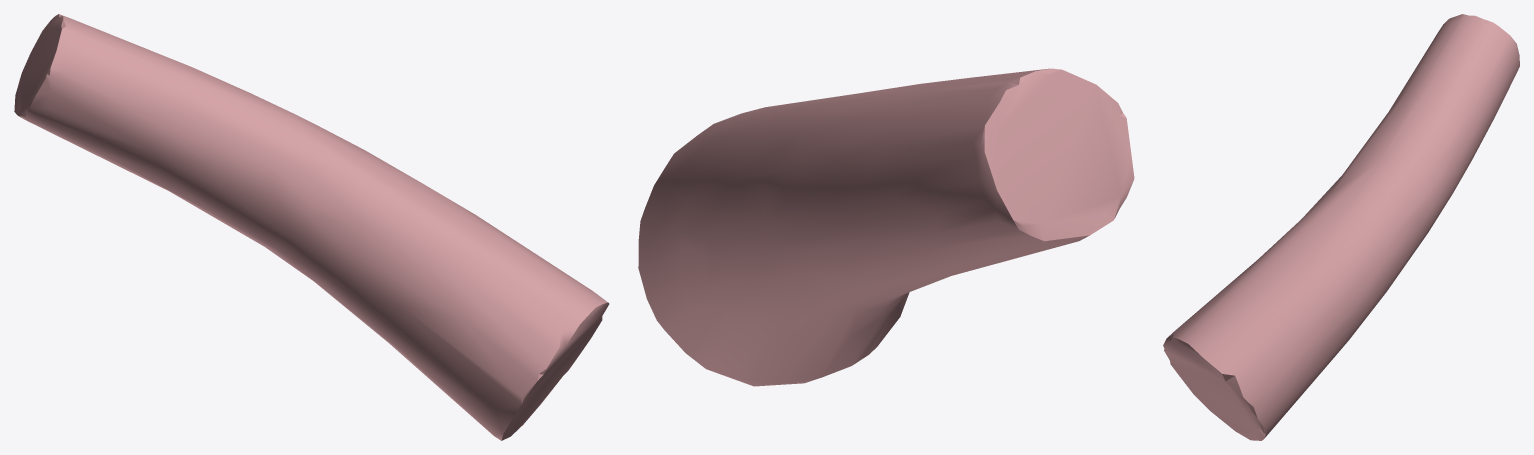
The model's file is fma68215_fj6532.glb.
The picture shows the model from 3 angles, left to right: view 1: azimuth 30°, elevation 25°; view 2: azimuth 150°, elevation 25°; view 3: azimuth 270°, elevation 25°; orthographic projection. The views are drawn at different scales.
Parts seen in each view (by area): view 1: FMA68215_FJ6532; view 2: FMA68215_FJ6532; view 3: FMA68215_FJ6532.
Part boxes in pixels (box(x1,y1,x2,y2)): FMA68215_FJ6532: box(14, 14, 609, 440); FMA68215_FJ6532: box(638, 68, 1134, 386); FMA68215_FJ6532: box(1163, 14, 1519, 440).
Bounding box in the file's own units: 0.0114 × 0.00941 × 0.0101.
